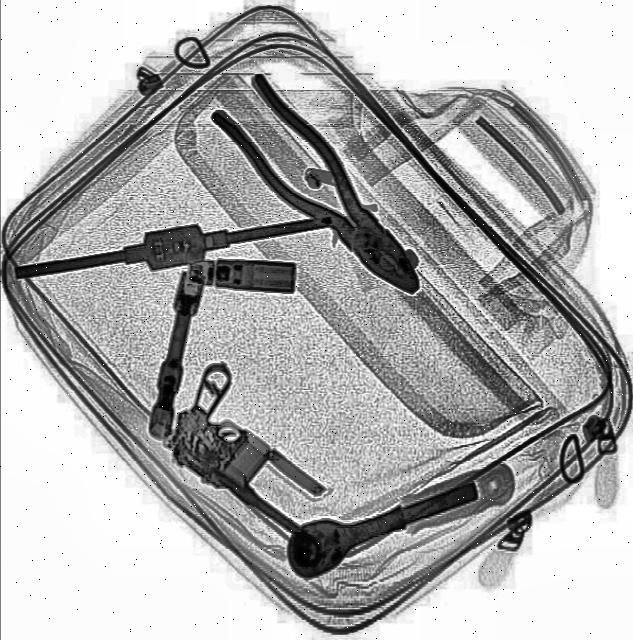Gun: (140, 358, 377, 566)
Pliers: (206, 71, 444, 316)
